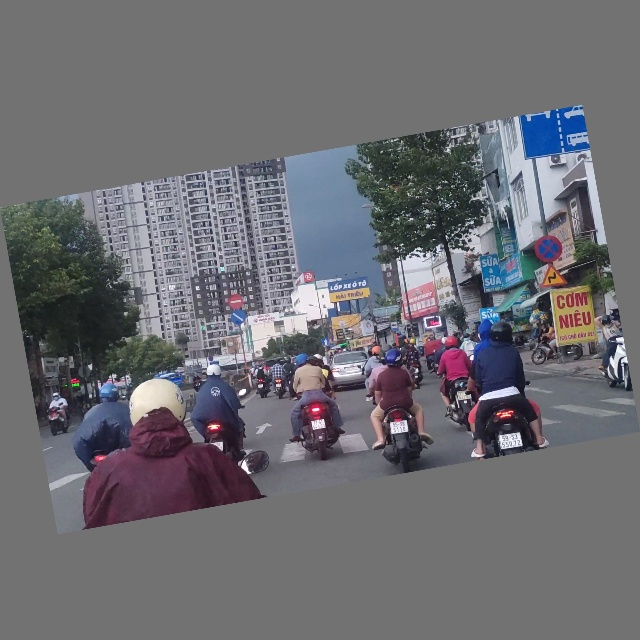I.407a: (321, 338, 331, 347)
I.434a: (390, 321, 400, 333)
P.102: (228, 294, 245, 311)
P.130: (533, 233, 565, 266)
R.302a: (230, 310, 247, 327)
W.202b: (537, 262, 569, 291)
